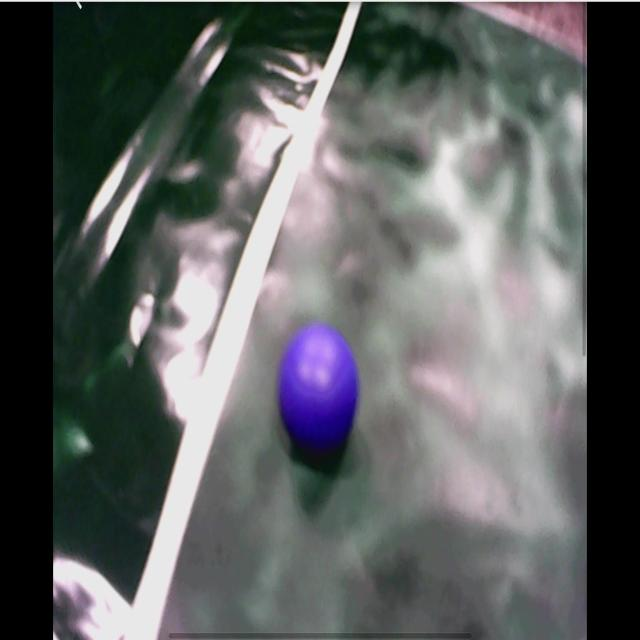ball: (281, 326, 359, 447)
